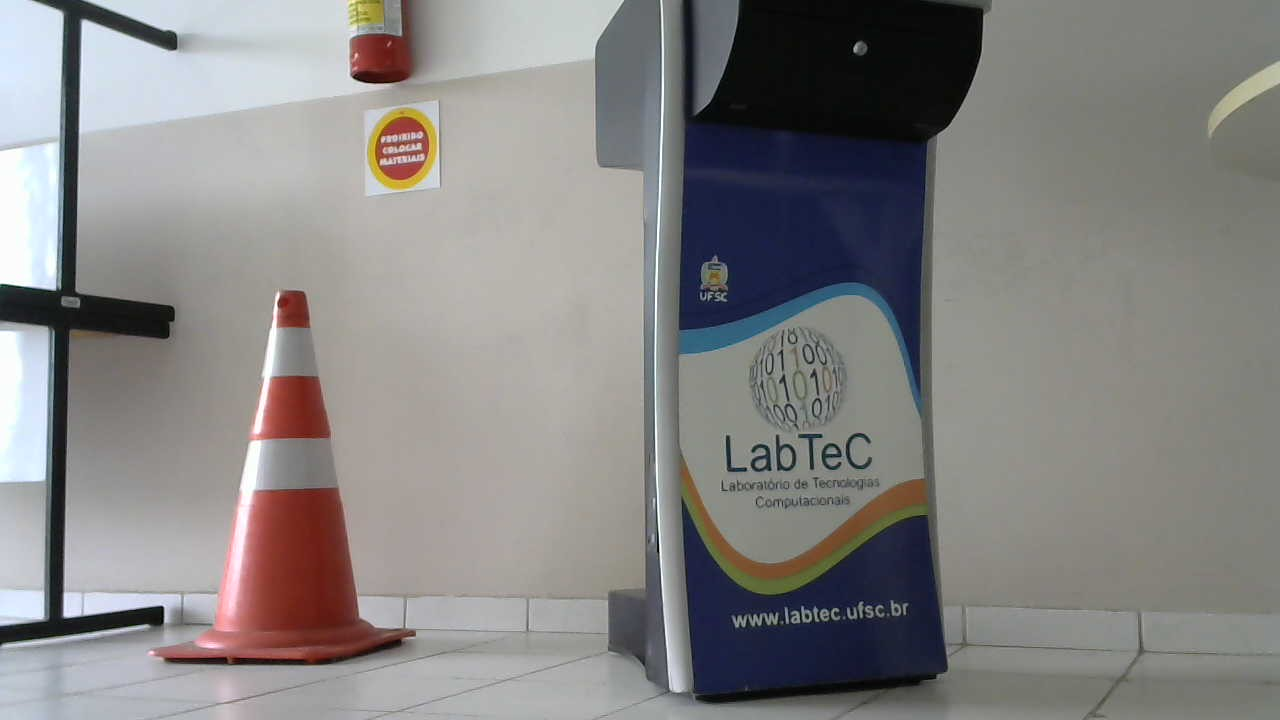cone: (167, 287, 397, 660)
